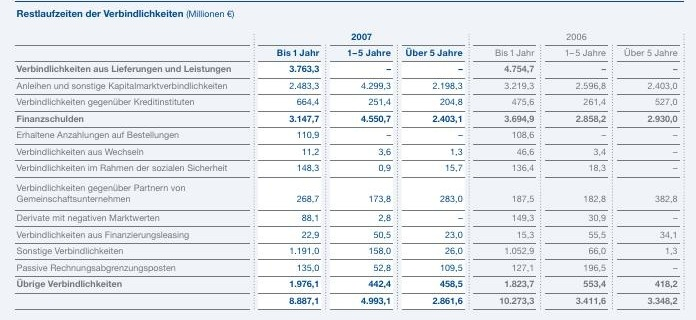table: (0, 0, 696, 320)
